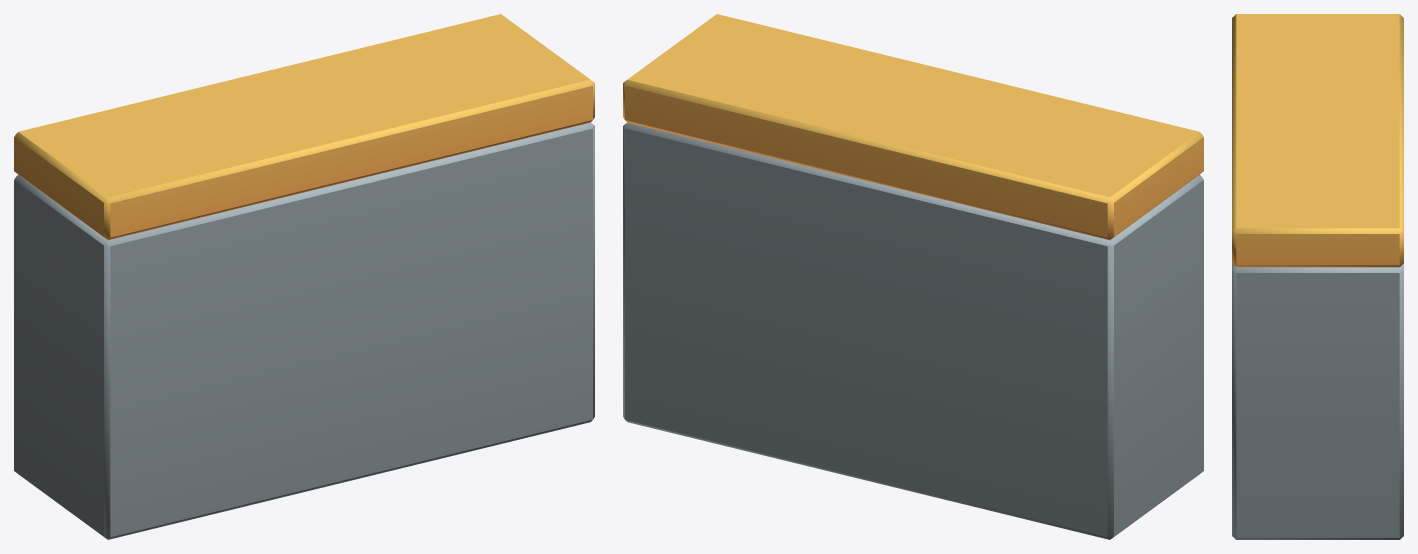
The model's file is platform_6x2x4_yellow.glb.
The picture shows the model from 3 angles, left to right: view 1: azimuth 30°, elevation 25°; view 2: azimuth 150°, elevation 25°; view 3: azimuth 270°, elevation 25°; orthographic projection. The views are drawn at different scales.
Parts seen in each view (by area): view 1: platform_6x2x4_yellow; view 2: platform_6x2x4_yellow; view 3: platform_6x2x4_yellow.
Boxes of the visible parts, x1,y1,x2,y2 form: platform_6x2x4_yellow: [14, 14, 594, 539]; platform_6x2x4_yellow: [623, 14, 1203, 539]; platform_6x2x4_yellow: [1232, 14, 1403, 539].
Bounding box in the file's own units: 6 × 4 × 2.
Materials: 1 (1 with a texture image).
